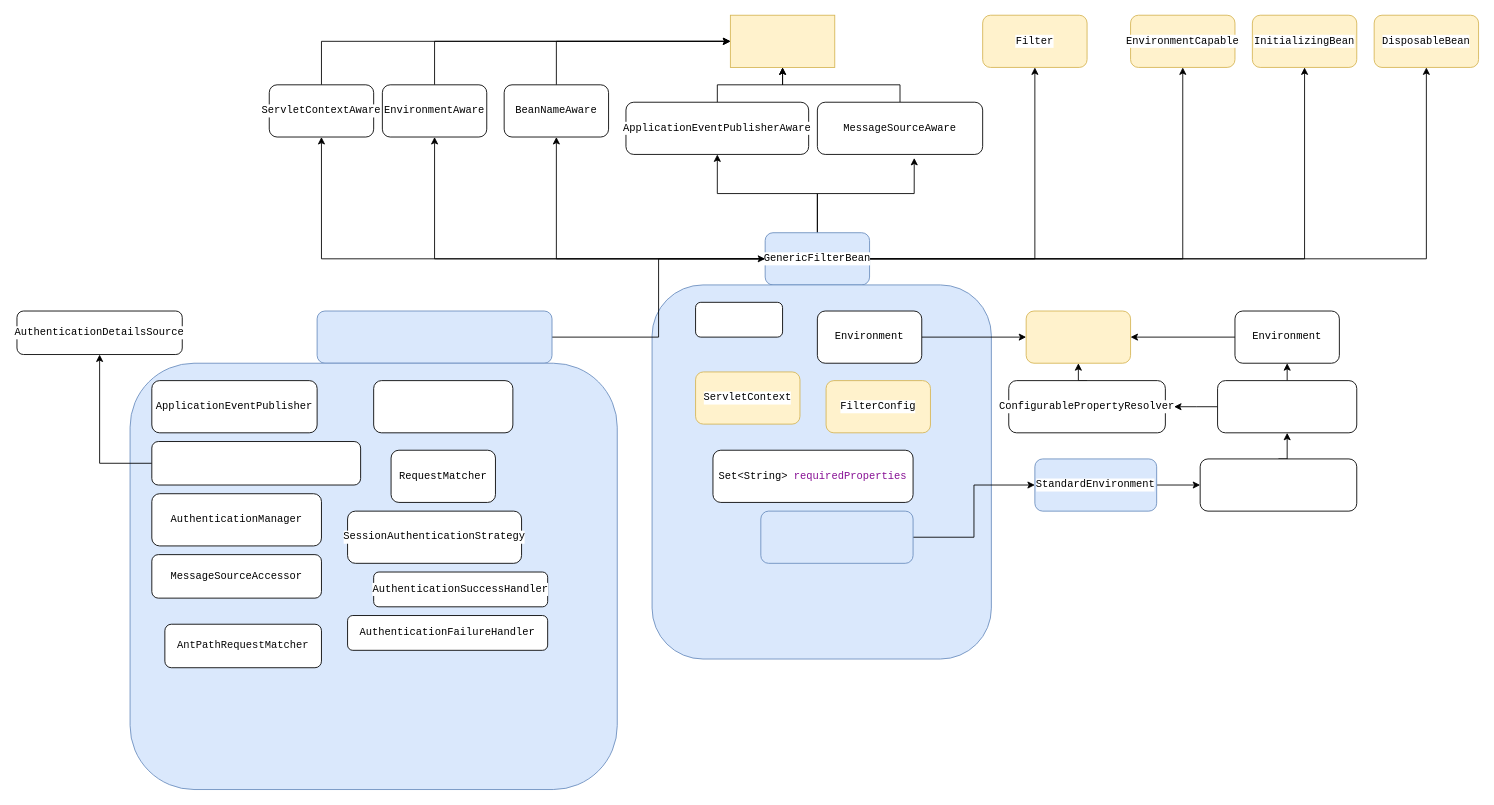
This 1494x805 diagram has some shape labels left out. The shapes that lost their labels are listed below. From the top down, each one's centre as x and y in pixels, then its label:
At pixel 782 40: "Aware".
At pixel 434 336: "AbstractAuthenticationProcessingFilter".
At pixel 739 319: "beanName".
At pixel 1078 336: "PropertyResolver".
At pixel 443 406: "RememberMeServices".
At pixel 1287 406: "ConfigurableEnvironment".
At pixel 256 463: "WebAuthenticationDetailsSource".
At pixel 1278 484: "ConfigurableWebEnvironment".
At pixel 836 536: "StandardServletEnvironment".
